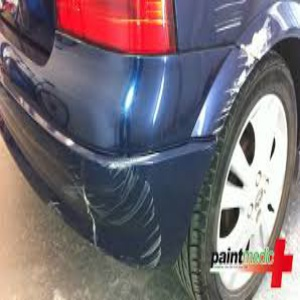bumper_scratch: (58, 144, 173, 271)
